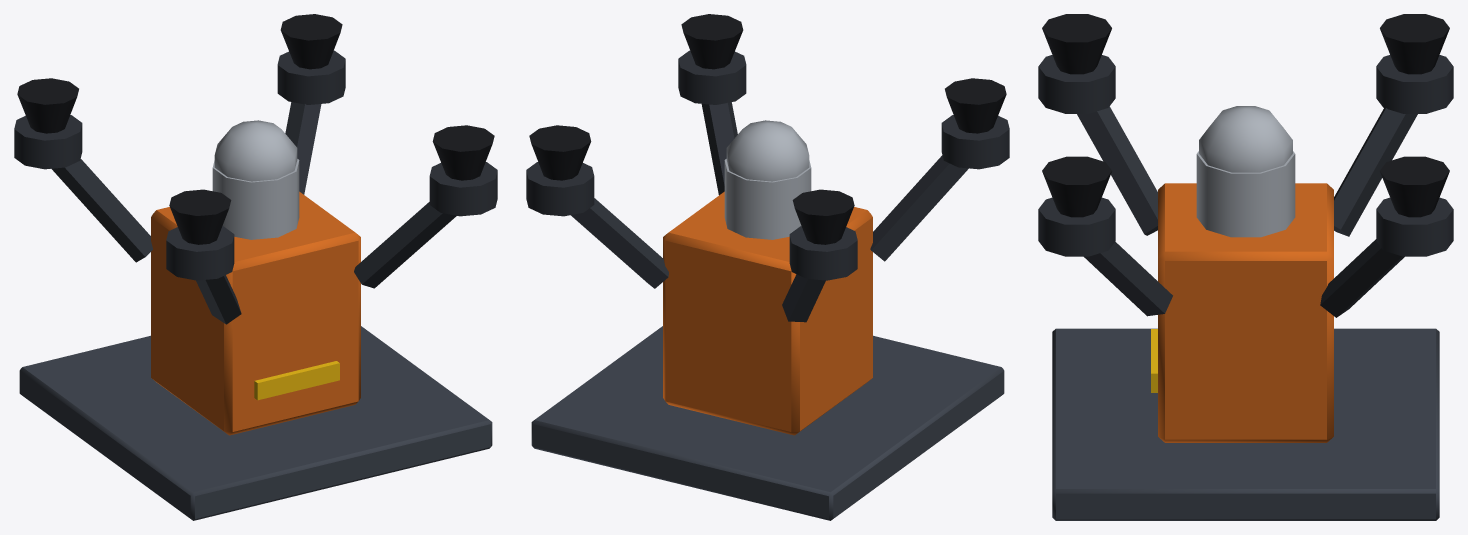
Rendered from nozzle_quad_rcs_block.glb.
The picture shows the model from 3 angles, left to right: view 1: azimuth 30°, elevation 25°; view 2: azimuth 150°, elevation 25°; view 3: azimuth 270°, elevation 25°; orthographic projection. The views are drawn at different scales.
Parts seen in each view (by area): view 1: nozzle_quad_rcs_block; view 2: nozzle_quad_rcs_block; view 3: nozzle_quad_rcs_block.
Part boxes in pixels (left/top/right/bottom): nozzle_quad_rcs_block: left=14, top=14, right=497, bottom=520; nozzle_quad_rcs_block: left=526, top=14, right=1009, bottom=520; nozzle_quad_rcs_block: left=1038, top=14, right=1453, bottom=520.
Size of the model in its own units: 1.17 by 1.07 by 1.18.
